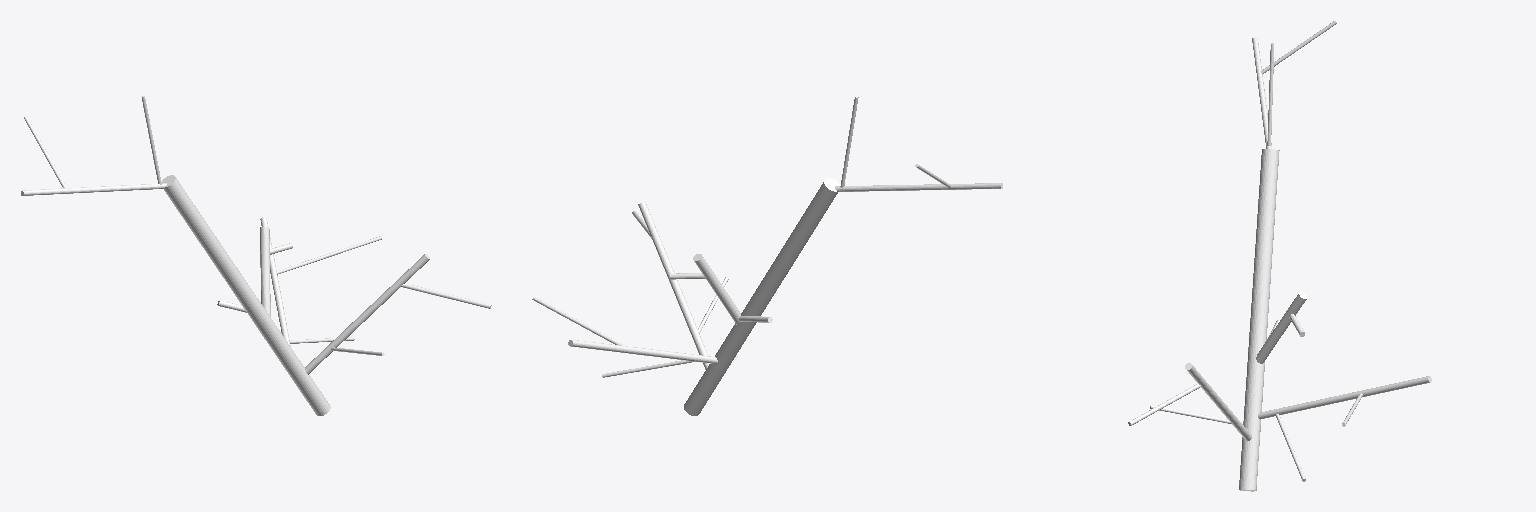
The robot description file, URDF, robot "tree_99.urdf":
<?xml version='1.0' encoding='UTF-8'?>
<robot name="tree_99.urdf">
  <link name="branch_0">
    <inertial>
      <origin xyz="0.0 0.0 0.0" rpy="0.0 -0.0 0.0"/>
      <mass value="1.0"/>
      <inertia ixx="1.0" ixy="0.0" ixz="0.0" iyy="1.0" iyz="0.0" izz="1.0"/>
    </inertial>
    <visual name="branch_0_visual">
      <geometry>
        <cylinder radius="0.18516622680066097" length="7.163053936460754"/>
      </geometry>
      <material name="branch_material"/>
      <origin xyz="-1.81322614878889 0.24073593185904973 3.079219473928684" rpy="1.3757069668813561e-17 0.5360154567104245 3.0095979635538233"/>
    </visual>
    <collision name="branch_0_collision">
      <geometry>
        <cylinder radius="0.18516622680066097" length="7.163053936460754"/>
      </geometry>
      <origin xyz="-1.81322614878889 0.24073593185904973 3.079219473928684" rpy="1.3757069668813561e-17 0.5360154567104245 3.0095979635538233"/>
    </collision>
  </link>
  <link name="branch_1">
    <inertial>
      <origin xyz="0.0 0.0 0.0" rpy="0.0 -0.0 0.0"/>
      <mass value="1.0"/>
      <inertia ixx="1.0" ixy="0.0" ixz="0.0" iyy="1.0" iyz="0.0" izz="1.0"/>
    </inertial>
    <visual name="branch_1_visual">
      <geometry>
        <cylinder radius="0.10466076364433649" length="2.1665839006427845"/>
      </geometry>
      <material name="branch_material"/>
      <origin xyz="0.0 0.0 0.0" rpy="0.0 -0.0 0.0"/>
    </visual>
    <collision name="branch_1_collision">
      <geometry>
        <cylinder radius="0.10466076364433649" length="2.1665839006427845"/>
      </geometry>
      <origin xyz="0.0 0.0 0.0" rpy="0.0 -0.0 0.0"/>
    </collision>
  </link>
  <link name="branch_2">
    <inertial>
      <origin xyz="0.0 0.0 0.0" rpy="0.0 -0.0 0.0"/>
      <mass value="1.0"/>
      <inertia ixx="1.0" ixy="0.0" ixz="0.0" iyy="1.0" iyz="0.0" izz="1.0"/>
    </inertial>
    <visual name="branch_2_visual">
      <geometry>
        <cylinder radius="0.061928052392209415" length="0.8431833765192811"/>
      </geometry>
      <material name="branch_material"/>
      <origin xyz="0.0 0.0 0.0" rpy="0.0 -0.0 0.0"/>
    </visual>
    <collision name="branch_2_collision">
      <geometry>
        <cylinder radius="0.061928052392209415" length="0.8431833765192811"/>
      </geometry>
      <origin xyz="0.0 0.0 0.0" rpy="0.0 -0.0 0.0"/>
    </collision>
  </link>
  <link name="branch_3">
    <inertial>
      <origin xyz="0.0 0.0 0.0" rpy="0.0 -0.0 0.0"/>
      <mass value="1.0"/>
      <inertia ixx="1.0" ixy="0.0" ixz="0.0" iyy="1.0" iyz="0.0" izz="1.0"/>
    </inertial>
    <visual name="branch_3_visual">
      <geometry>
        <cylinder radius="0.0636026849468441" length="1.1053481028933057"/>
      </geometry>
      <material name="branch_material"/>
      <origin xyz="0.0 0.0 0.0" rpy="0.0 -0.0 0.0"/>
    </visual>
    <collision name="branch_3_collision">
      <geometry>
        <cylinder radius="0.0636026849468441" length="1.1053481028933057"/>
      </geometry>
      <origin xyz="0.0 0.0 0.0" rpy="0.0 -0.0 0.0"/>
    </collision>
  </link>
  <link name="branch_4">
    <inertial>
      <origin xyz="0.0 0.0 0.0" rpy="0.0 -0.0 0.0"/>
      <mass value="1.0"/>
      <inertia ixx="1.0" ixy="0.0" ixz="0.0" iyy="1.0" iyz="0.0" izz="1.0"/>
    </inertial>
    <visual name="branch_4_visual">
      <geometry>
        <cylinder radius="0.08256098242410566" length="3.967968636465283"/>
      </geometry>
      <material name="branch_material"/>
      <origin xyz="0.0 0.0 0.0" rpy="0.0 -0.0 0.0"/>
    </visual>
    <collision name="branch_4_collision">
      <geometry>
        <cylinder radius="0.08256098242410566" length="3.967968636465283"/>
      </geometry>
      <origin xyz="0.0 0.0 0.0" rpy="0.0 -0.0 0.0"/>
    </collision>
  </link>
  <link name="branch_5">
    <inertial>
      <origin xyz="0.0 0.0 0.0" rpy="0.0 -0.0 0.0"/>
      <mass value="1.0"/>
      <inertia ixx="1.0" ixy="0.0" ixz="0.0" iyy="1.0" iyz="0.0" izz="1.0"/>
    </inertial>
    <visual name="branch_5_visual">
      <geometry>
        <cylinder radius="0.04" length="1.8853564198585588"/>
      </geometry>
      <material name="branch_material"/>
      <origin xyz="0.0 0.0 0.0" rpy="0.0 -0.0 0.0"/>
    </visual>
    <collision name="branch_5_collision">
      <geometry>
        <cylinder radius="0.04" length="1.8853564198585588"/>
      </geometry>
      <origin xyz="0.0 0.0 0.0" rpy="0.0 -0.0 0.0"/>
    </collision>
  </link>
  <link name="branch_6">
    <inertial>
      <origin xyz="0.0 0.0 0.0" rpy="0.0 -0.0 0.0"/>
      <mass value="1.0"/>
      <inertia ixx="1.0" ixy="0.0" ixz="0.0" iyy="1.0" iyz="0.0" izz="1.0"/>
    </inertial>
    <visual name="branch_6_visual">
      <geometry>
        <cylinder radius="0.04876413308519872" length="2.115266726466479"/>
      </geometry>
      <material name="branch_material"/>
      <origin xyz="0.0 0.0 0.0" rpy="0.0 -0.0 0.0"/>
    </visual>
    <collision name="branch_6_collision">
      <geometry>
        <cylinder radius="0.04876413308519872" length="2.115266726466479"/>
      </geometry>
      <origin xyz="0.0 0.0 0.0" rpy="0.0 -0.0 0.0"/>
    </collision>
  </link>
  <link name="branch_7">
    <inertial>
      <origin xyz="0.0 0.0 0.0" rpy="0.0 -0.0 0.0"/>
      <mass value="1.0"/>
      <inertia ixx="1.0" ixy="0.0" ixz="0.0" iyy="1.0" iyz="0.0" izz="1.0"/>
    </inertial>
    <visual name="branch_7_visual">
      <geometry>
        <cylinder radius="0.07218546176482696" length="4.287438304960058"/>
      </geometry>
      <material name="branch_material"/>
      <origin xyz="0.0 0.0 0.0" rpy="0.0 -0.0 0.0"/>
    </visual>
    <collision name="branch_7_collision">
      <geometry>
        <cylinder radius="0.07218546176482696" length="4.287438304960058"/>
      </geometry>
      <origin xyz="0.0 0.0 0.0" rpy="0.0 -0.0 0.0"/>
    </collision>
  </link>
  <link name="branch_8">
    <inertial>
      <origin xyz="0.0 0.0 0.0" rpy="0.0 -0.0 0.0"/>
      <mass value="1.0"/>
      <inertia ixx="1.0" ixy="0.0" ixz="0.0" iyy="1.0" iyz="0.0" izz="1.0"/>
    </inertial>
    <visual name="branch_8_visual">
      <geometry>
        <cylinder radius="0.04" length="2.1908165871099516"/>
      </geometry>
      <material name="branch_material"/>
      <origin xyz="0.0 0.0 0.0" rpy="0.0 -0.0 0.0"/>
    </visual>
    <collision name="branch_8_collision">
      <geometry>
        <cylinder radius="0.04" length="2.1908165871099516"/>
      </geometry>
      <origin xyz="0.0 0.0 0.0" rpy="0.0 -0.0 0.0"/>
    </collision>
  </link>
  <link name="branch_9">
    <inertial>
      <origin xyz="0.0 0.0 0.0" rpy="0.0 -0.0 0.0"/>
      <mass value="1.0"/>
      <inertia ixx="1.0" ixy="0.0" ixz="0.0" iyy="1.0" iyz="0.0" izz="1.0"/>
    </inertial>
    <visual name="branch_9_visual">
      <geometry>
        <cylinder radius="0.04" length="2.555553395104312"/>
      </geometry>
      <material name="branch_material"/>
      <origin xyz="0.0 0.0 0.0" rpy="0.0 -0.0 0.0"/>
    </visual>
    <collision name="branch_9_collision">
      <geometry>
        <cylinder radius="0.04" length="2.555553395104312"/>
      </geometry>
      <origin xyz="0.0 0.0 0.0" rpy="0.0 -0.0 0.0"/>
    </collision>
  </link>
  <link name="branch_10">
    <inertial>
      <origin xyz="0.0 0.0 0.0" rpy="0.0 -0.0 0.0"/>
      <mass value="1.0"/>
      <inertia ixx="1.0" ixy="0.0" ixz="0.0" iyy="1.0" iyz="0.0" izz="1.0"/>
    </inertial>
    <visual name="branch_10_visual">
      <geometry>
        <cylinder radius="0.06142646971359071" length="4.040023196683929"/>
      </geometry>
      <material name="branch_material"/>
      <origin xyz="0.0 0.0 0.0" rpy="0.0 -0.0 0.0"/>
    </visual>
    <collision name="branch_10_collision">
      <geometry>
        <cylinder radius="0.06142646971359071" length="4.040023196683929"/>
      </geometry>
      <origin xyz="0.0 0.0 0.0" rpy="0.0 -0.0 0.0"/>
    </collision>
  </link>
  <link name="branch_11">
    <inertial>
      <origin xyz="0.0 0.0 0.0" rpy="0.0 -0.0 0.0"/>
      <mass value="1.0"/>
      <inertia ixx="1.0" ixy="0.0" ixz="0.0" iyy="1.0" iyz="0.0" izz="1.0"/>
    </inertial>
    <visual name="branch_11_visual">
      <geometry>
        <cylinder radius="0.04" length="2.259238764452656"/>
      </geometry>
      <material name="branch_material"/>
      <origin xyz="0.0 0.0 0.0" rpy="0.0 -0.0 0.0"/>
    </visual>
    <collision name="branch_11_collision">
      <geometry>
        <cylinder radius="0.04" length="2.259238764452656"/>
      </geometry>
      <origin xyz="0.0 0.0 0.0" rpy="0.0 -0.0 0.0"/>
    </collision>
  </link>
  <link name="branch_12">
    <inertial>
      <origin xyz="0.0 0.0 0.0" rpy="0.0 -0.0 0.0"/>
      <mass value="1.0"/>
      <inertia ixx="1.0" ixy="0.0" ixz="0.0" iyy="1.0" iyz="0.0" izz="1.0"/>
    </inertial>
    <visual name="branch_12_visual">
      <geometry>
        <cylinder radius="0.04" length="1.9716328988264877"/>
      </geometry>
      <material name="branch_material"/>
      <origin xyz="0.0 0.0 0.0" rpy="0.0 -0.0 0.0"/>
    </visual>
    <collision name="branch_12_collision">
      <geometry>
        <cylinder radius="0.04" length="1.9716328988264877"/>
      </geometry>
      <origin xyz="0.0 0.0 0.0" rpy="0.0 -0.0 0.0"/>
    </collision>
  </link>
  <joint name="joint_0_1" type="fixed">
    <parent link="branch_0"/>
    <child link="branch_1"/>
    <axis xyz="1. 0. 0."/>
    <origin xyz="-1.0707842123638542 0.670808174082457 3.1963765612256805" rpy="-0.3602237931705415 0.41637578914843737 0.3273417141745003"/>
  </joint>
  <joint name="joint_0_4" type="fixed">
    <parent link="branch_0"/>
    <child link="branch_4"/>
    <axis xyz="1. 0. 0."/>
    <origin xyz="0.6879304105991237 -0.5810856106965041 2.325665902292877" rpy="0.17976607857805804 0.7542399744049019 -0.23129153711262207"/>
  </joint>
  <joint name="joint_0_7" type="fixed">
    <parent link="branch_0"/>
    <child link="branch_7"/>
    <axis xyz="1. 0. 0."/>
    <origin xyz="-0.03908060915327799 1.9562620387880356 2.102861230798253" rpy="-0.9081066772721736 0.9316363712276458 0.1816004531955263"/>
  </joint>
  <joint name="joint_0_10" type="fixed">
    <parent link="branch_0"/>
    <child link="branch_10"/>
    <axis xyz="1. 0. 0."/>
    <origin xyz="-5.521311386095279 0.31328884564843834 6.4694450980859335" rpy="0.5852553917774787 1.3107418492361238 -2.4599914015626365"/>
  </joint>
  <joint name="joint_1_2" type="fixed">
    <parent link="branch_0"/>
    <child link="branch_2"/>
    <axis xyz="1. 0. 0."/>
    <origin xyz="-0.5470878742815117 1.02507101960627 3.5773754198426975" rpy="-1.8920540446449763 1.1671951066335466 -1.5676461602330918"/>
  </joint>
  <joint name="joint_1_3" type="fixed">
    <parent link="branch_0"/>
    <child link="branch_3"/>
    <axis xyz="1. 0. 0."/>
    <origin xyz="-1.763915640141125 0.47973297116538627 2.659526246345111" rpy="1.002604065446651 0.9393198054056154 -2.4136385414643295"/>
  </joint>
  <joint name="joint_4_5" type="fixed">
    <parent link="branch_0"/>
    <child link="branch_5"/>
    <axis xyz="1. 0. 0."/>
    <origin xyz="0.1869826212840158 -1.1274013379243375 1.8242823155239594" rpy="-1.1815131921964008 0.7654162575907797 -2.6983553888370664"/>
  </joint>
  <joint name="joint_4_6" type="fixed">
    <parent link="branch_0"/>
    <child link="branch_6"/>
    <axis xyz="1. 0. 0."/>
    <origin xyz="2.070163391917376 -1.6979514247819965 2.964219961700288" rpy="-2.0140674889240016 1.271338349195655 -2.8110830589070073"/>
  </joint>
  <joint name="joint_7_8" type="fixed">
    <parent link="branch_0"/>
    <child link="branch_8"/>
    <axis xyz="1. 0. 0."/>
    <origin xyz="0.4315298469225544 0.892137971595752 1.2161395602980845" rpy="-1.9176480082958633 0.5814210488814325 -1.4853530554749246"/>
  </joint>
  <joint name="joint_7_9" type="fixed">
    <parent link="branch_0"/>
    <child link="branch_9"/>
    <axis xyz="1. 0. 0."/>
    <origin xyz="1.3740351727897886 2.193957932030279 2.506644364886401" rpy="-1.384695710137208 0.33857154466157596 -1.6584657784755483"/>
  </joint>
  <joint name="joint_10_11" type="fixed">
    <parent link="branch_0"/>
    <child link="branch_11"/>
    <axis xyz="1. 0. 0."/>
    <origin xyz="-4.0349791423502435 0.48506791386403486 7.210658215915084" rpy="-0.04903545034331158 -0.17124173456320768 0.09946745356612799"/>
  </joint>
  <joint name="joint_10_12" type="fixed">
    <parent link="branch_0"/>
    <child link="branch_12"/>
    <axis xyz="1. 0. 0."/>
    <origin xyz="-6.3713895949727295 1.046784658981793 7.220547027134432" rpy="-0.9380662328534959 0.14612534838695895 0.17911426793088175"/>
  </joint>
  <material name="branch_material">
    <color rgba="1. 1. 1. 1."/>
  </material>
</robot>

--- What the picture shows (computed from the rendered views, not written in the file) ---
3 views of the same robot in one strip: view 1: azimuth 30°, elevation 25°; view 2: azimuth 150°, elevation 25°; view 3: azimuth 270°, elevation 25° (orthographic).
Model tree_99.urdf with 13 links and 12 joints (12 fixed), rooted at branch_0, posed every joint at zero.
Visible links, largest first — view 1: branch_0, branch_4, branch_10, branch_1, branch_7; view 2: branch_0, branch_4, branch_7, branch_10, branch_1; view 3: branch_0, branch_7, branch_1, branch_4, branch_10.
Link boxes in pixels (bbox=[...]): branch_0: bbox=[162, 175, 330, 415]; branch_4: bbox=[305, 254, 429, 374]; branch_10: bbox=[21, 183, 166, 195]; branch_1: bbox=[260, 227, 270, 316]; branch_7: bbox=[260, 217, 290, 346]; branch_0: bbox=[684, 178, 839, 415]; branch_4: bbox=[638, 202, 709, 369]; branch_7: bbox=[568, 340, 717, 363]; branch_10: bbox=[835, 183, 1002, 191]; branch_1: bbox=[693, 254, 740, 324]; branch_0: bbox=[1239, 149, 1279, 491]; branch_7: bbox=[1258, 376, 1431, 419]; branch_1: bbox=[1256, 292, 1307, 363]; branch_4: bbox=[1185, 363, 1251, 440]; branch_10: bbox=[1252, 37, 1271, 148].
Bounding box of the posed robot: 10.33 × 6.34 × 8.42 m (x, y, z).
Geometry: primitives only (box / cylinder / sphere), no mesh files.